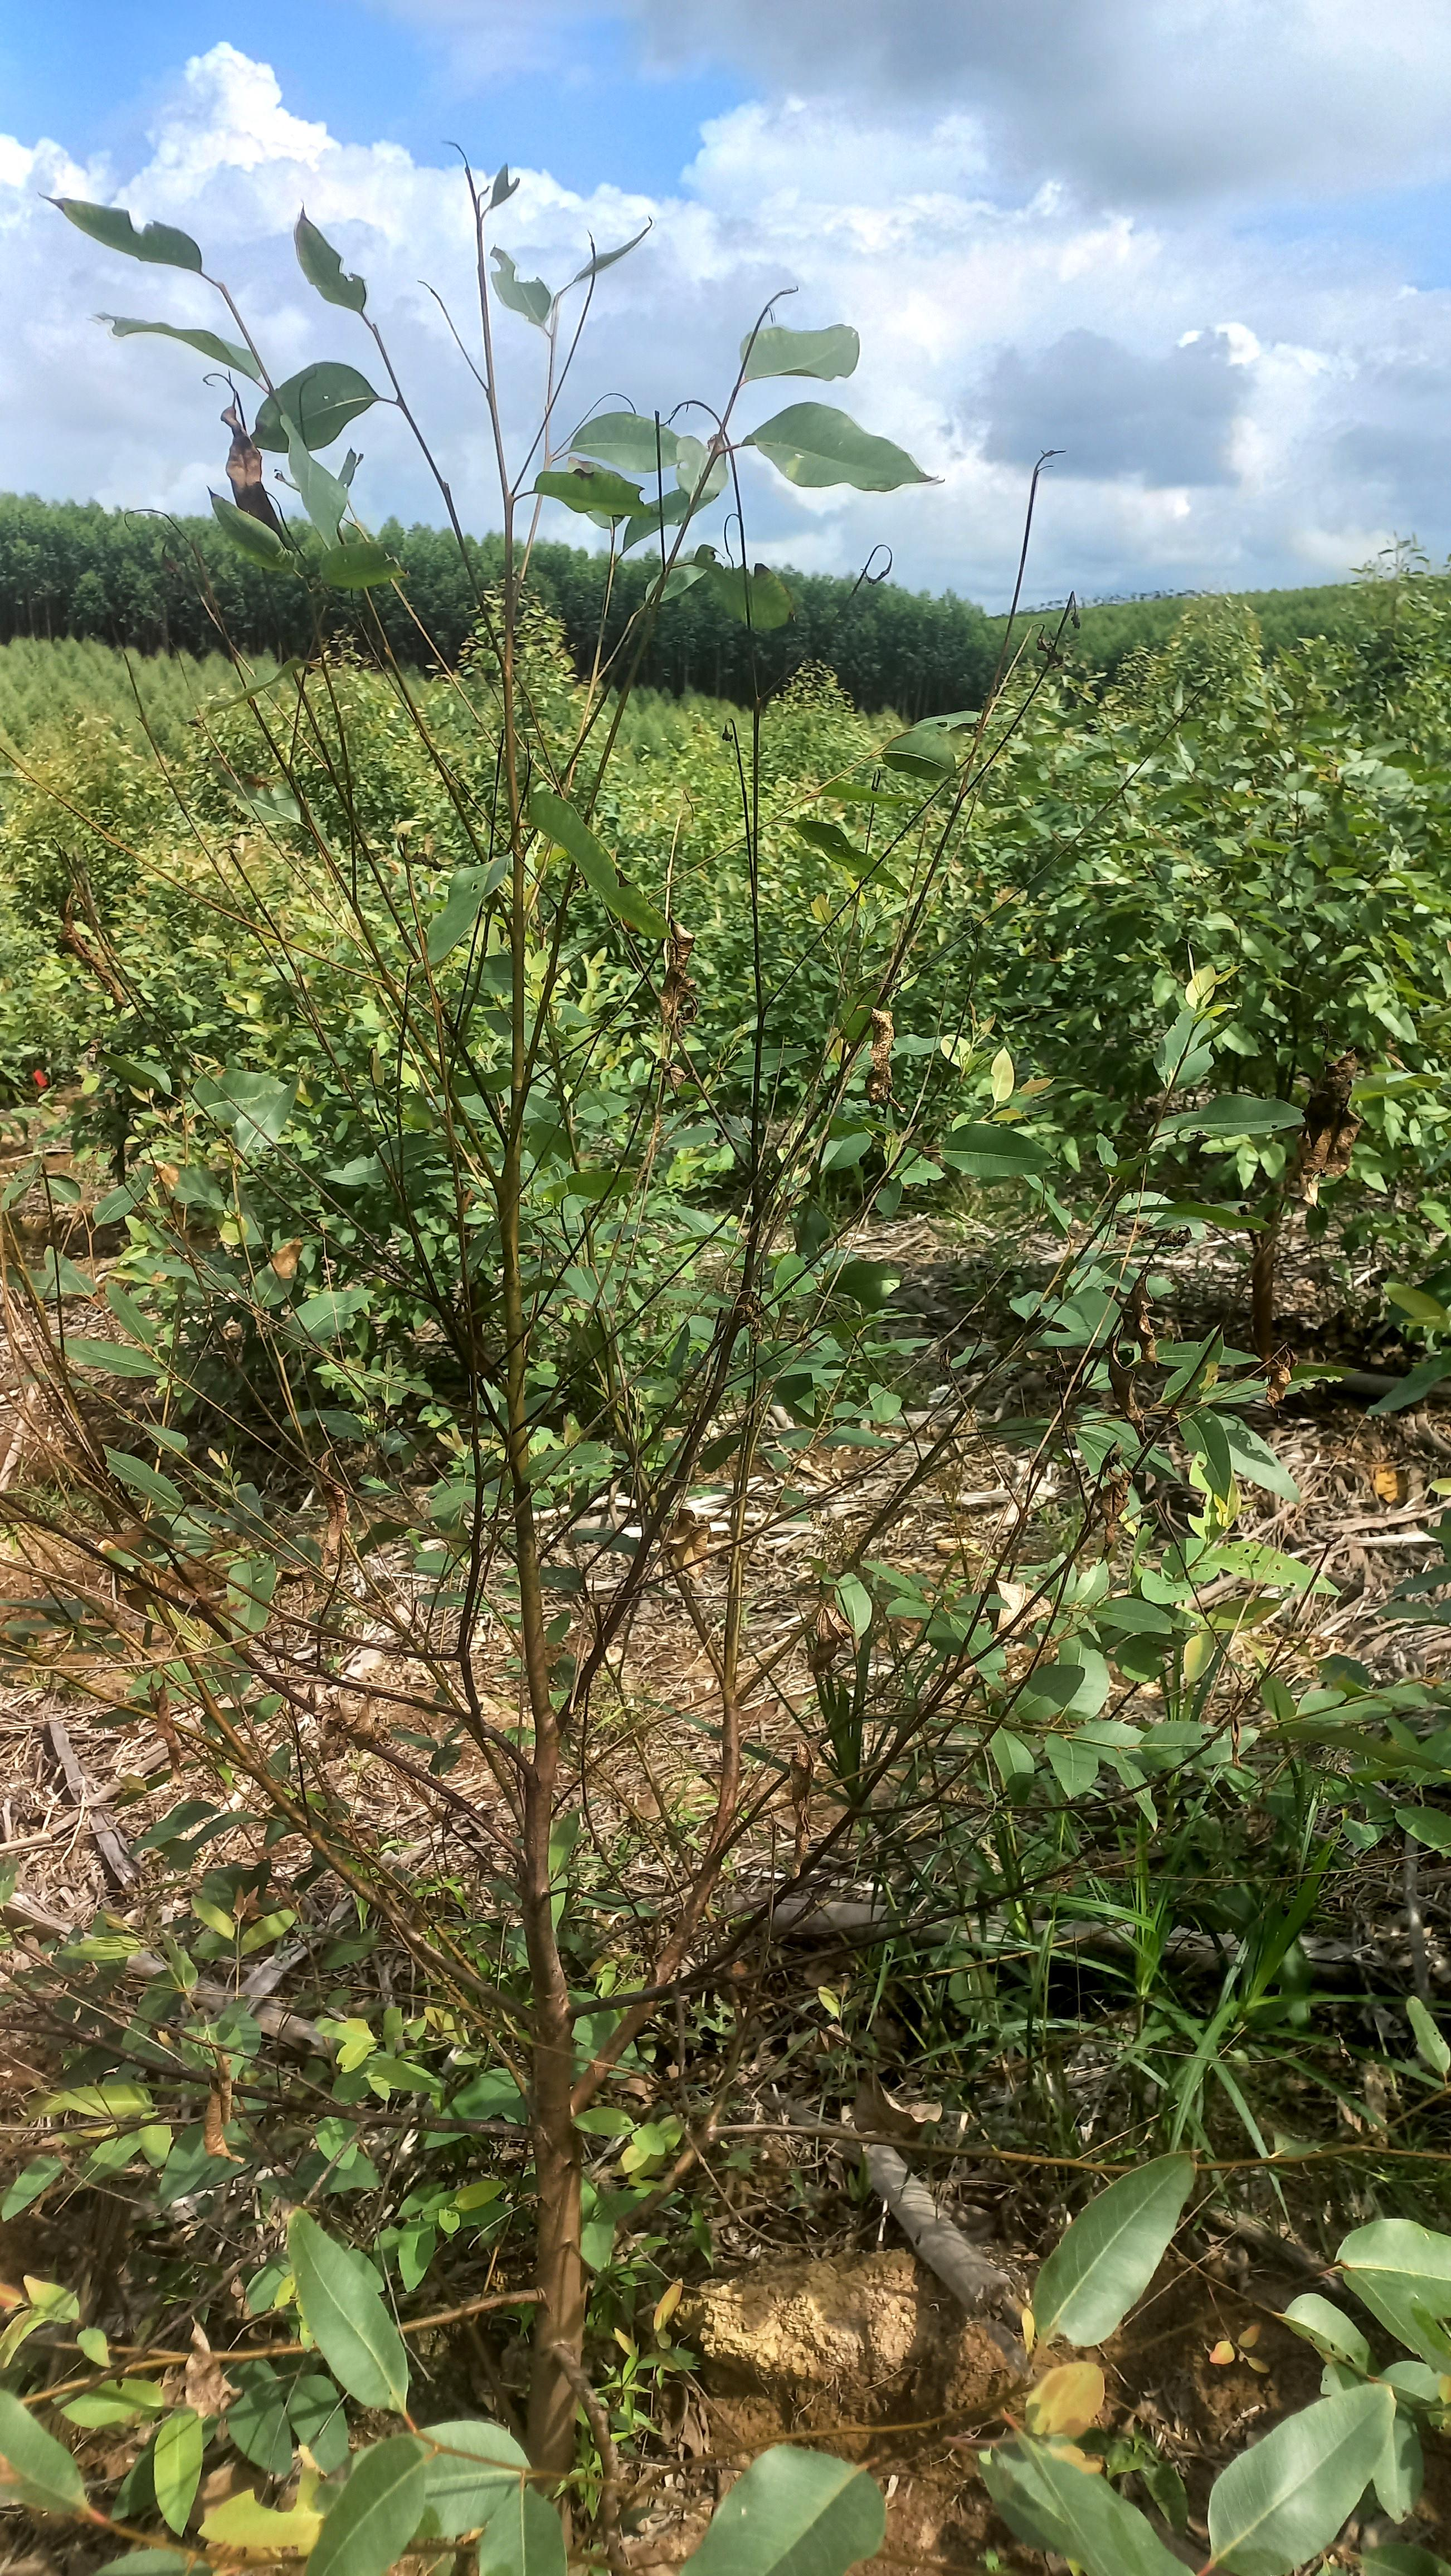Helopeltis-Withered Sprout: (1288, 1058, 1384, 1210), (203, 400, 285, 573), (50, 895, 127, 1037), (0, 1148, 92, 1258), (648, 916, 713, 1056), (924, 1465, 996, 1591), (472, 127, 550, 239), (1240, 1350, 1329, 1428), (687, 702, 787, 768), (865, 1008, 911, 1139), (301, 1467, 372, 1552), (1030, 579, 1092, 671), (687, 398, 747, 485), (800, 1617, 872, 1686), (264, 1214, 322, 1288), (662, 1507, 708, 1587)
